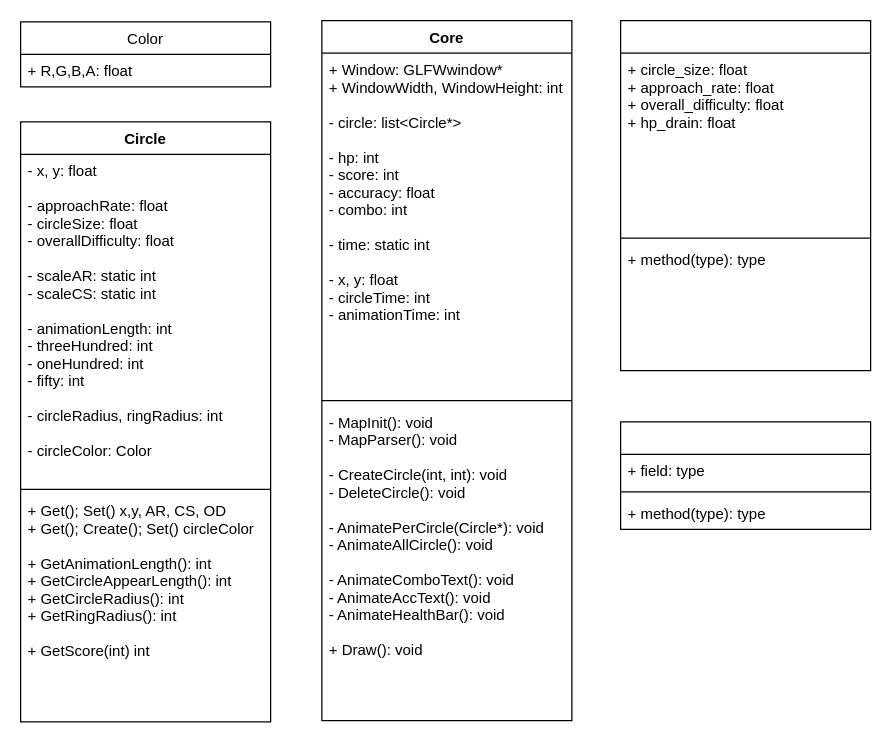
This 891x743 diagram has some shape labels left out. The shapes that lost their labels are listed below. From the top down, each one's box as (x1, y1, x2, y2) in pixels, then its label:
(619, 19, 871, 371): Attribute (Parser)
(619, 421, 871, 529): Beatmap
